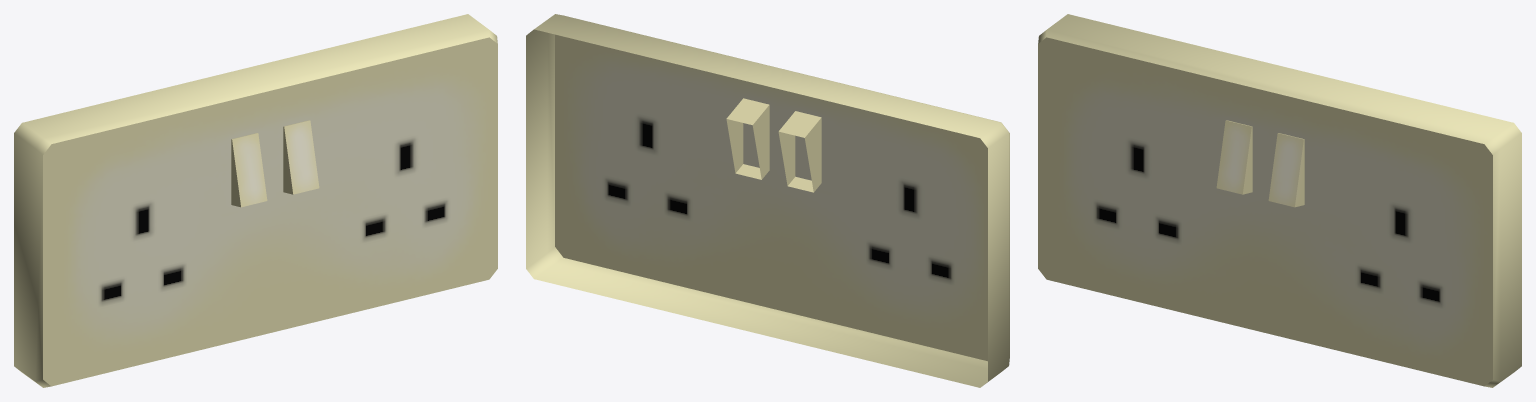
The model's file is switch_double.FBX.
3 views of the same model, side by side, from view 1: azimuth 30°, elevation 25°; view 2: azimuth 150°, elevation 25°; view 3: azimuth 330°, elevation 25° (orthographic).
Visible parts, largest first — view 1: switch_double; view 2: switch_double; view 3: switch_double.
Part boxes in pixels (x1,y1,x2,y2): switch_double: [14, 14, 497, 387]; switch_double: [526, 14, 1009, 387]; switch_double: [1038, 14, 1521, 387].
Bounding box in the file's own units: 16.45 × 8.5 × 2.18.
Materials: 1 (1 with a texture image).
